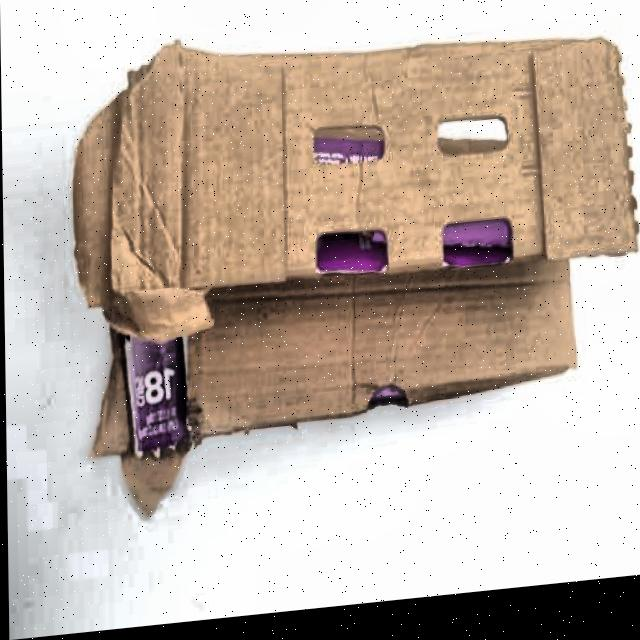cardboard: (69, 0, 640, 491)
